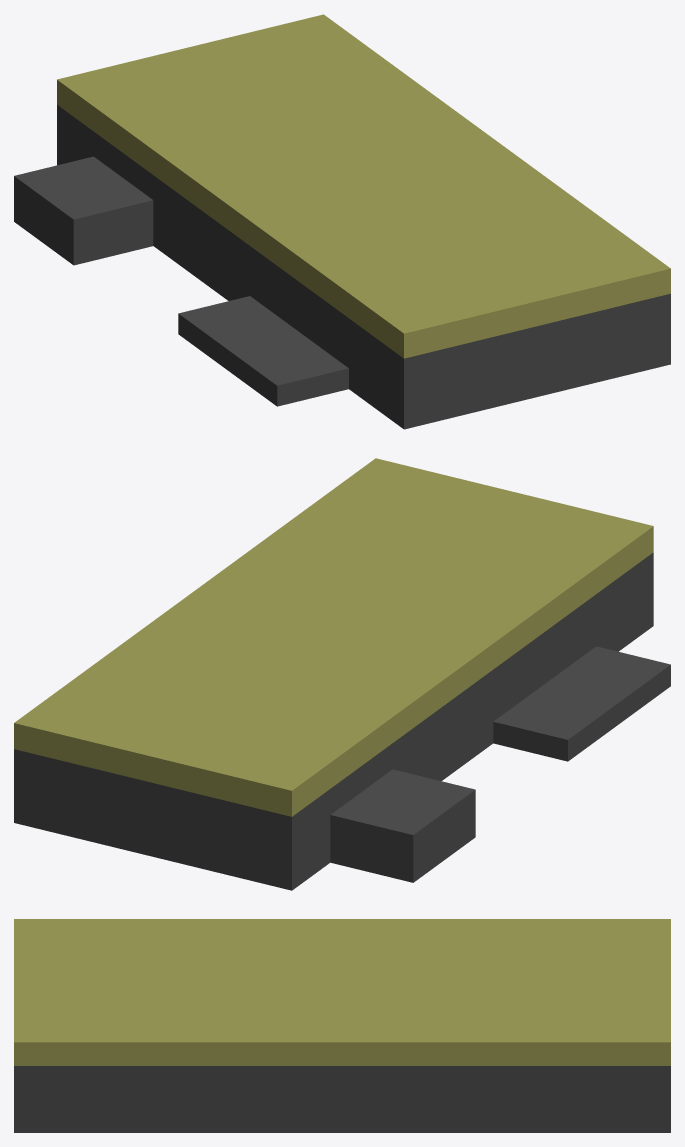
File: Nha-1.obj
3 views of the same model, one above another, from view 1: azimuth 30°, elevation 25°; view 2: azimuth 150°, elevation 25°; view 3: azimuth 270°, elevation 25° (orthographic). The views are drawn at different scales.
Size of the model in its own units: 8.7 by 2.3 by 15.1.
1 material, 1 textured.
